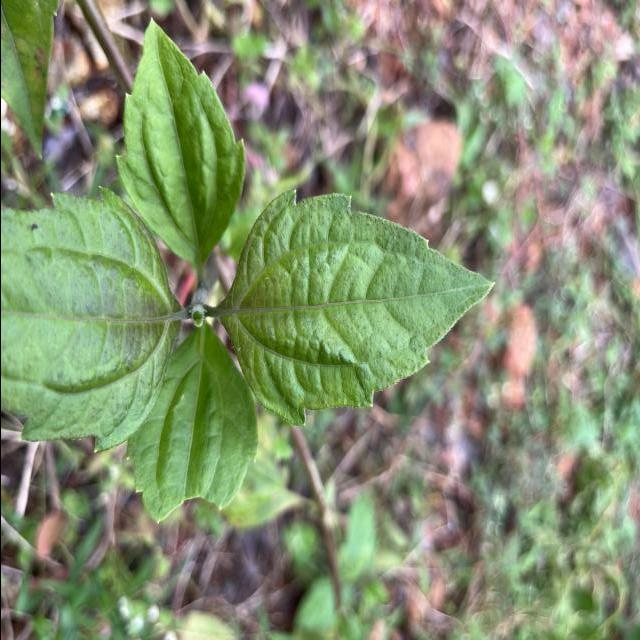Chromolaena odorata: (214, 183, 498, 430), (112, 12, 250, 266)
